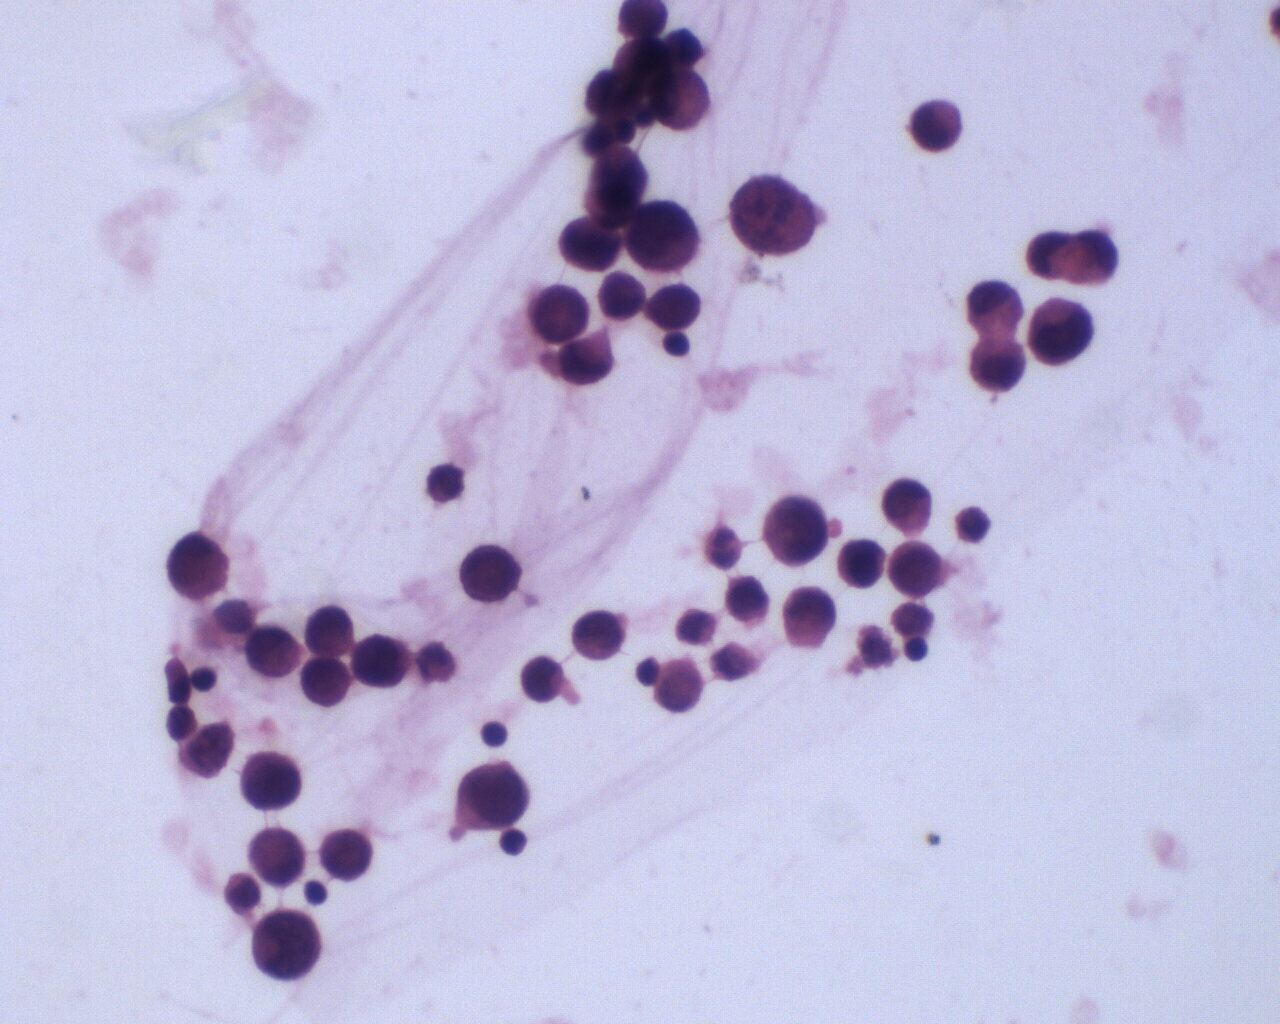ab: (725, 171, 818, 261), (627, 199, 707, 274), (453, 760, 533, 833), (250, 909, 324, 984), (1029, 293, 1098, 369), (762, 493, 830, 567), (523, 277, 597, 345), (166, 532, 233, 605), (173, 718, 237, 783), (779, 583, 840, 651), (459, 543, 525, 605), (239, 751, 303, 814), (904, 92, 968, 155), (558, 215, 625, 274), (885, 537, 948, 599), (242, 623, 303, 681), (351, 633, 413, 690), (649, 655, 704, 716), (879, 475, 933, 537), (319, 829, 377, 883), (298, 655, 353, 711), (573, 607, 626, 664), (303, 603, 357, 657), (646, 282, 703, 331), (595, 269, 648, 321), (837, 538, 887, 592), (521, 653, 567, 705), (724, 573, 769, 625)
lymph: (499, 825, 533, 857), (479, 719, 513, 749), (188, 664, 222, 694), (901, 635, 929, 664)
meso: (967, 339, 1031, 398), (967, 277, 1025, 340)
